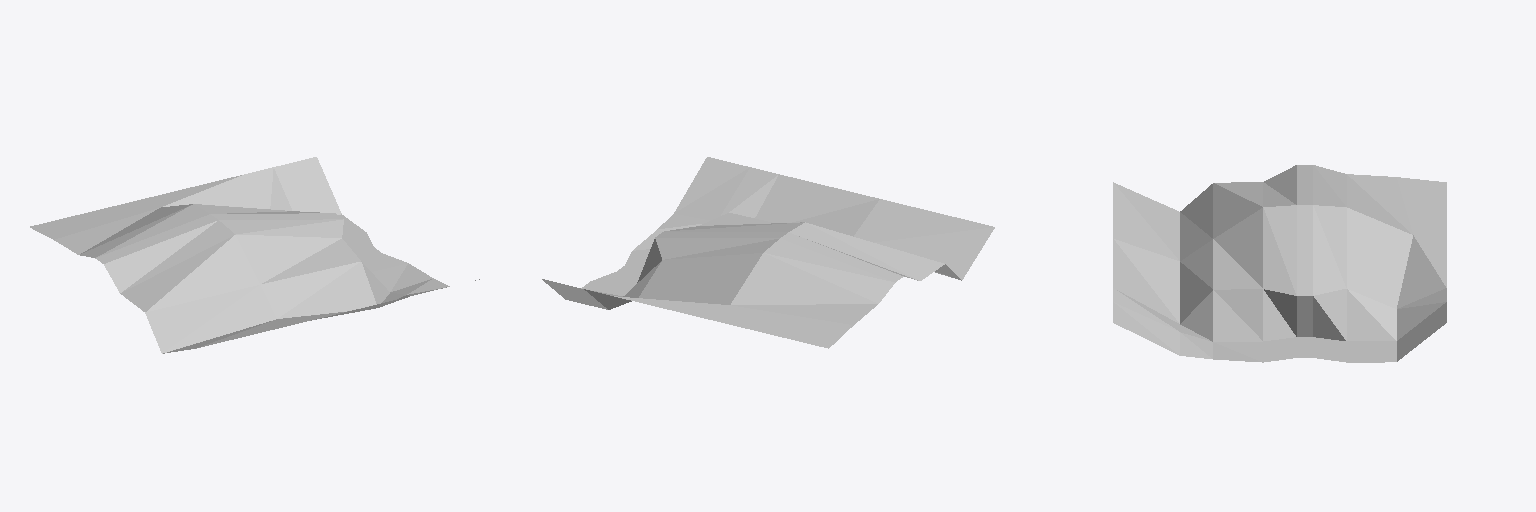
Rendered from ter5.obj.
The picture shows the model from 3 angles: view 1: azimuth 30°, elevation 25°; view 2: azimuth 150°, elevation 25°; view 3: azimuth 270°, elevation 25°; orthographic projection.
Parts seen in each view (by area): view 1: ter5; view 2: ter5; view 3: ter5.
Boxes of the visible parts, box(x1,y1,x2,y2) form: ter5: box(30, 157, 479, 353); ter5: box(542, 157, 994, 348); ter5: box(1113, 165, 1446, 362).
Bounding box in the file's own units: 500 × 122 × 500.